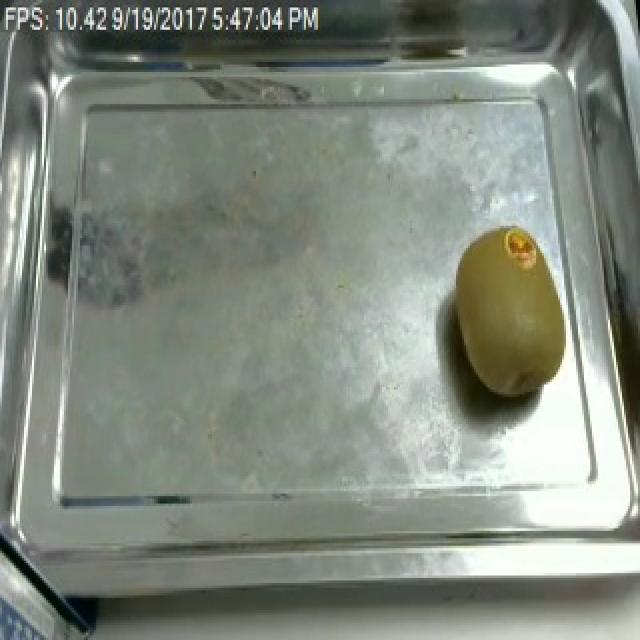Fruit: (442, 213, 582, 407)
